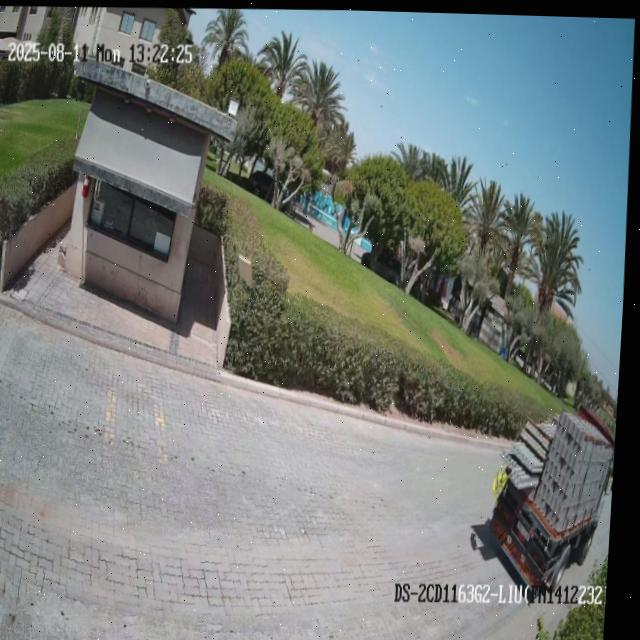bricks: (535, 412, 610, 529)
